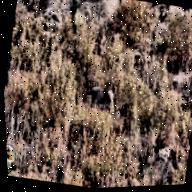boar: (81, 69, 119, 119)
